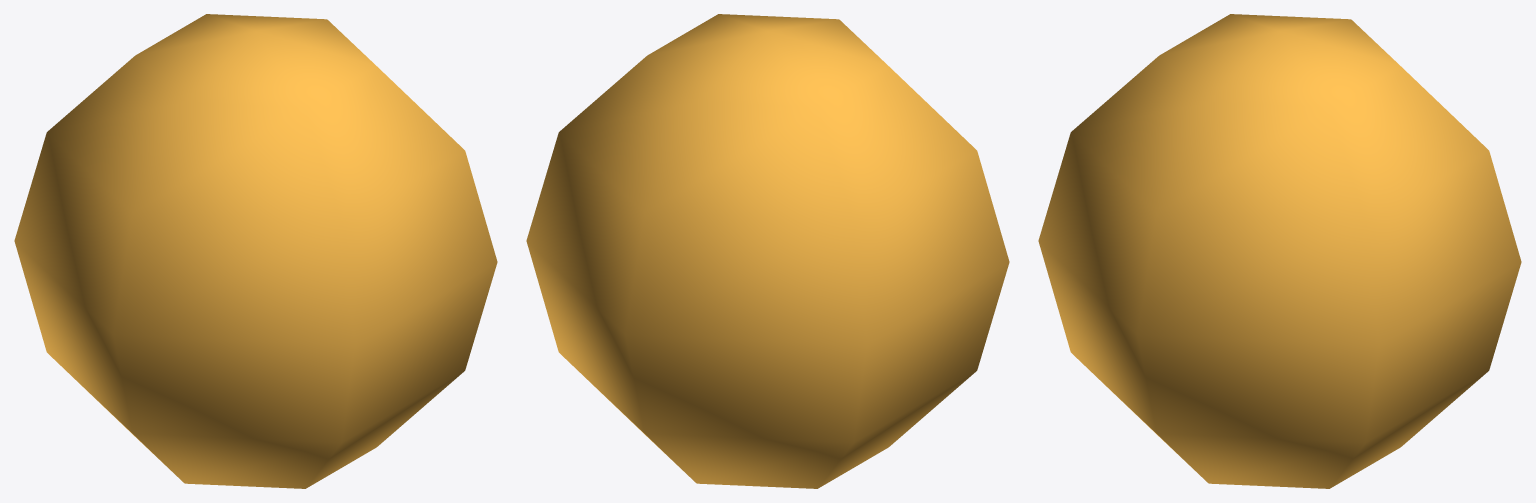
Rendered from Prop_PastryTeaTable_Food_Yellow.glb.
The picture shows the model from 3 angles, left to right: view 1: azimuth 30°, elevation 25°; view 2: azimuth 150°, elevation 25°; view 3: azimuth 270°, elevation 25°; orthographic projection.
Parts seen in each view (by area): view 1: Prop_PastryTeaTable_Food_Yellow; view 2: Prop_PastryTeaTable_Food_Yellow; view 3: Prop_PastryTeaTable_Food_Yellow.
Part boxes in pixels (bbox=[...]): Prop_PastryTeaTable_Food_Yellow: bbox=[14, 14, 497, 488]; Prop_PastryTeaTable_Food_Yellow: bbox=[526, 14, 1009, 488]; Prop_PastryTeaTable_Food_Yellow: bbox=[1038, 14, 1521, 488].
Size of the model in its own units: 1.14 by 1.25 by 1.25.
1 material, 1 textured.
